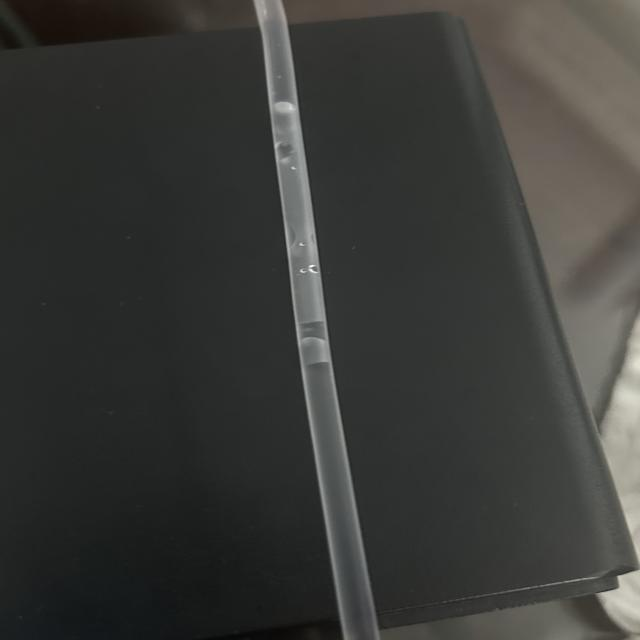bubble: (292, 339, 348, 371), (290, 262, 332, 286), (272, 133, 311, 157), (268, 95, 305, 115), (285, 236, 314, 256), (286, 163, 304, 183)
